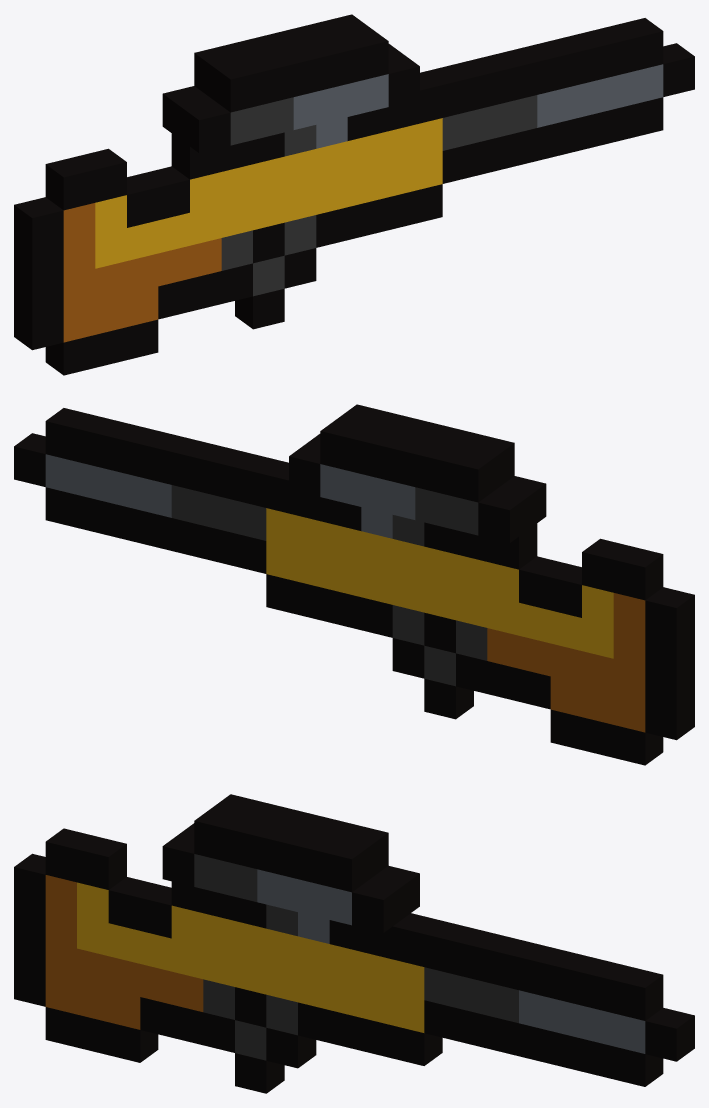
Rendered from AWP.glb.
The picture shows the model from 3 angles, top to bottom: view 1: azimuth 30°, elevation 25°; view 2: azimuth 150°, elevation 25°; view 3: azimuth 330°, elevation 25°; orthographic projection.
Visible parts, largest first — view 1: generated(Clone); view 2: generated(Clone); view 3: generated(Clone).
Part boxes in pixels (x1=…): generated(Clone): x1=14, y1=14, x2=694, y2=375; generated(Clone): x1=14, y1=404, x2=694, y2=765; generated(Clone): x1=14, y1=794, x2=694, y2=1093.
Bounding box in the file's own units: 21 × 8 × 2.
Materials: 1 (1 with a texture image).
